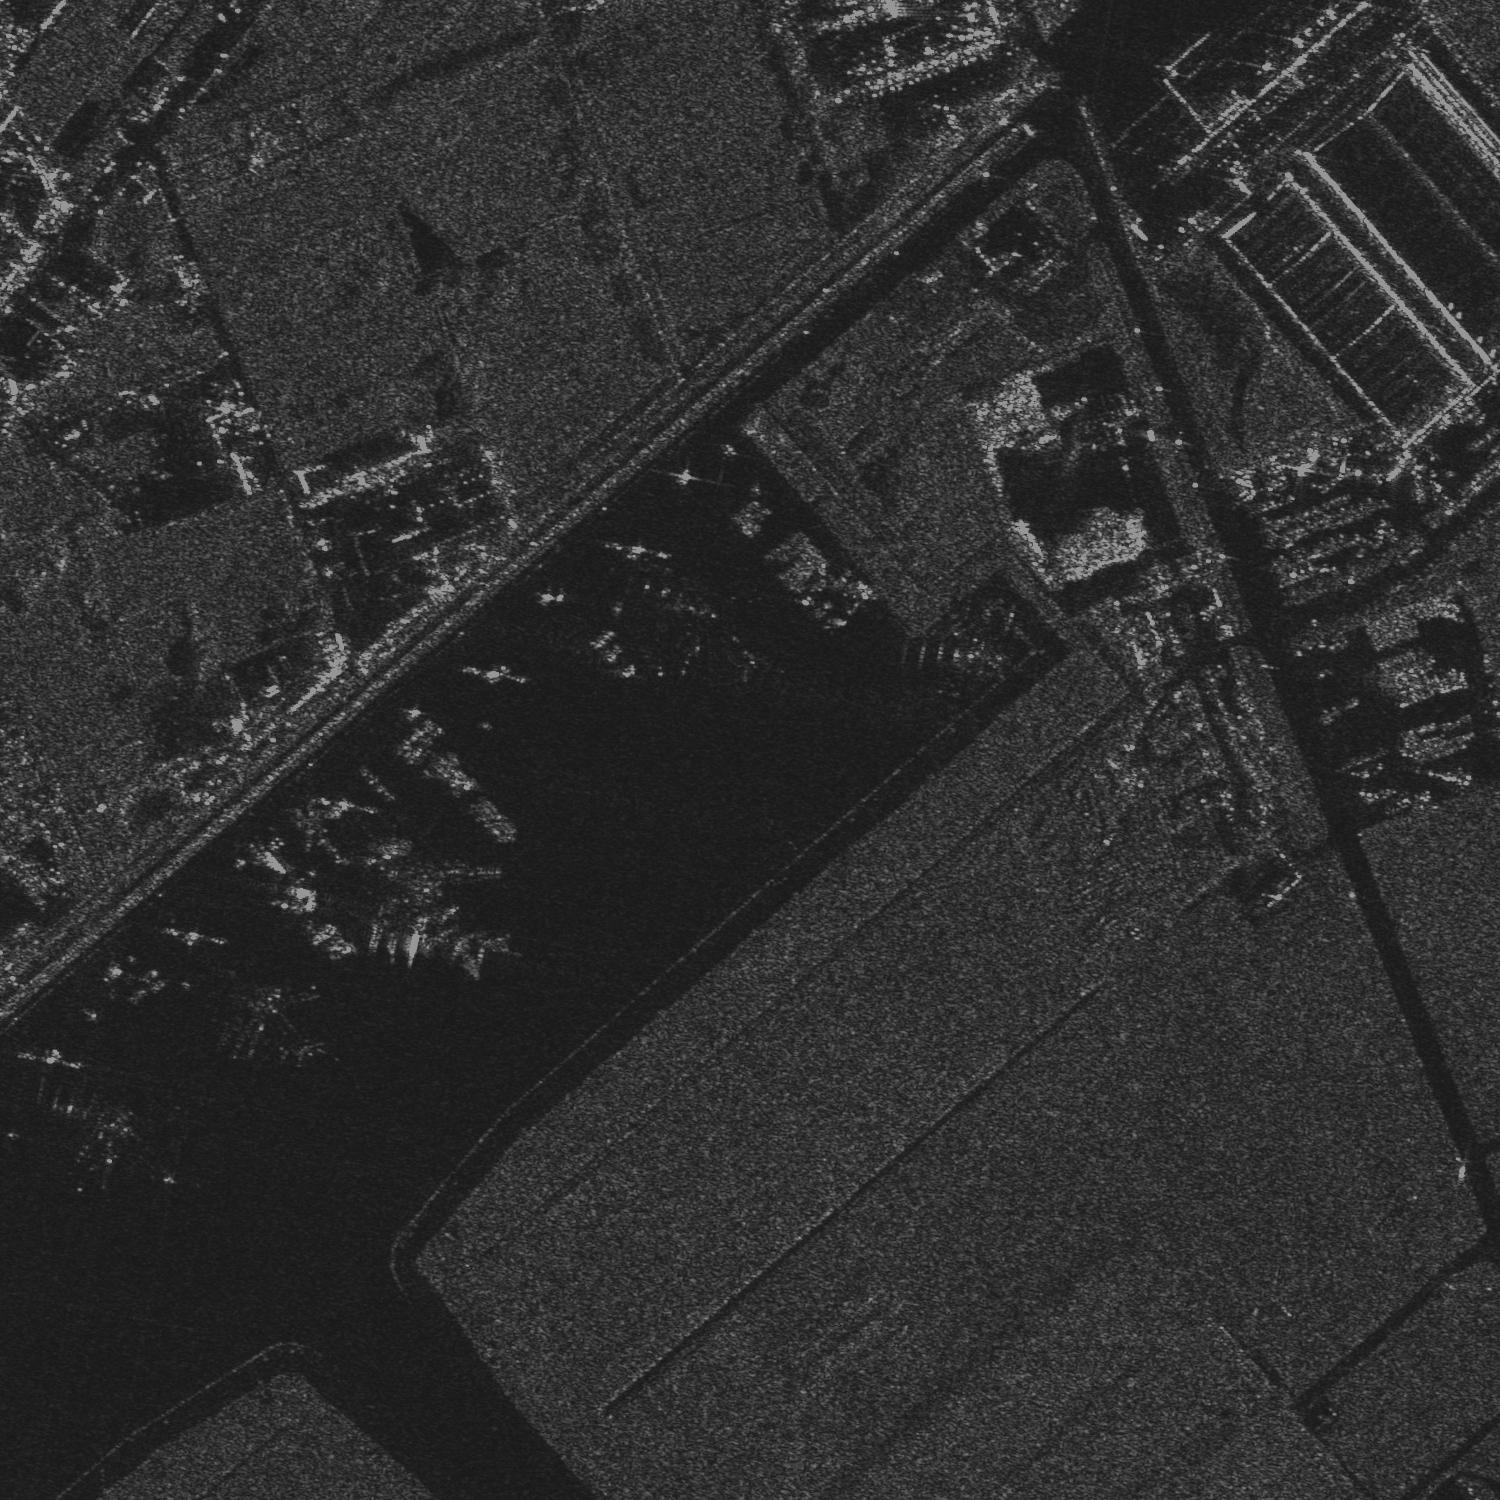Boeing737: (231, 979, 330, 1071)
other: (367, 856, 523, 982), (38, 1099, 181, 1201), (663, 582, 772, 691)
